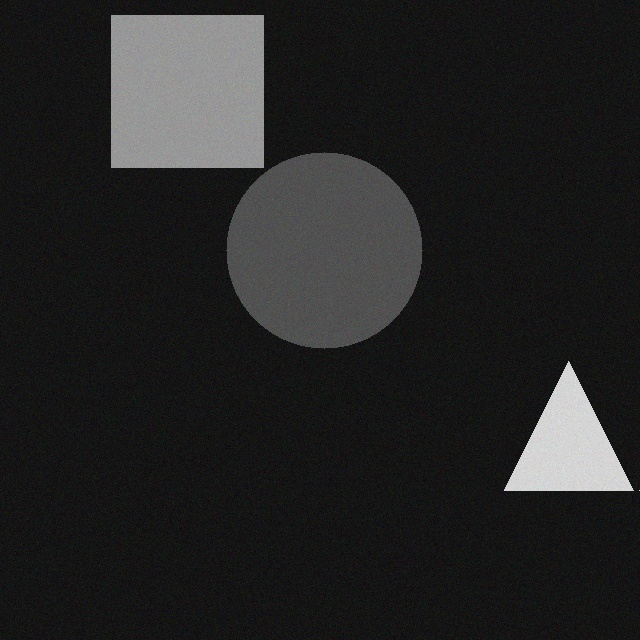circle: (229, 161, 425, 357)
square: (114, 24, 266, 176)
triangle: (507, 370, 636, 499)
